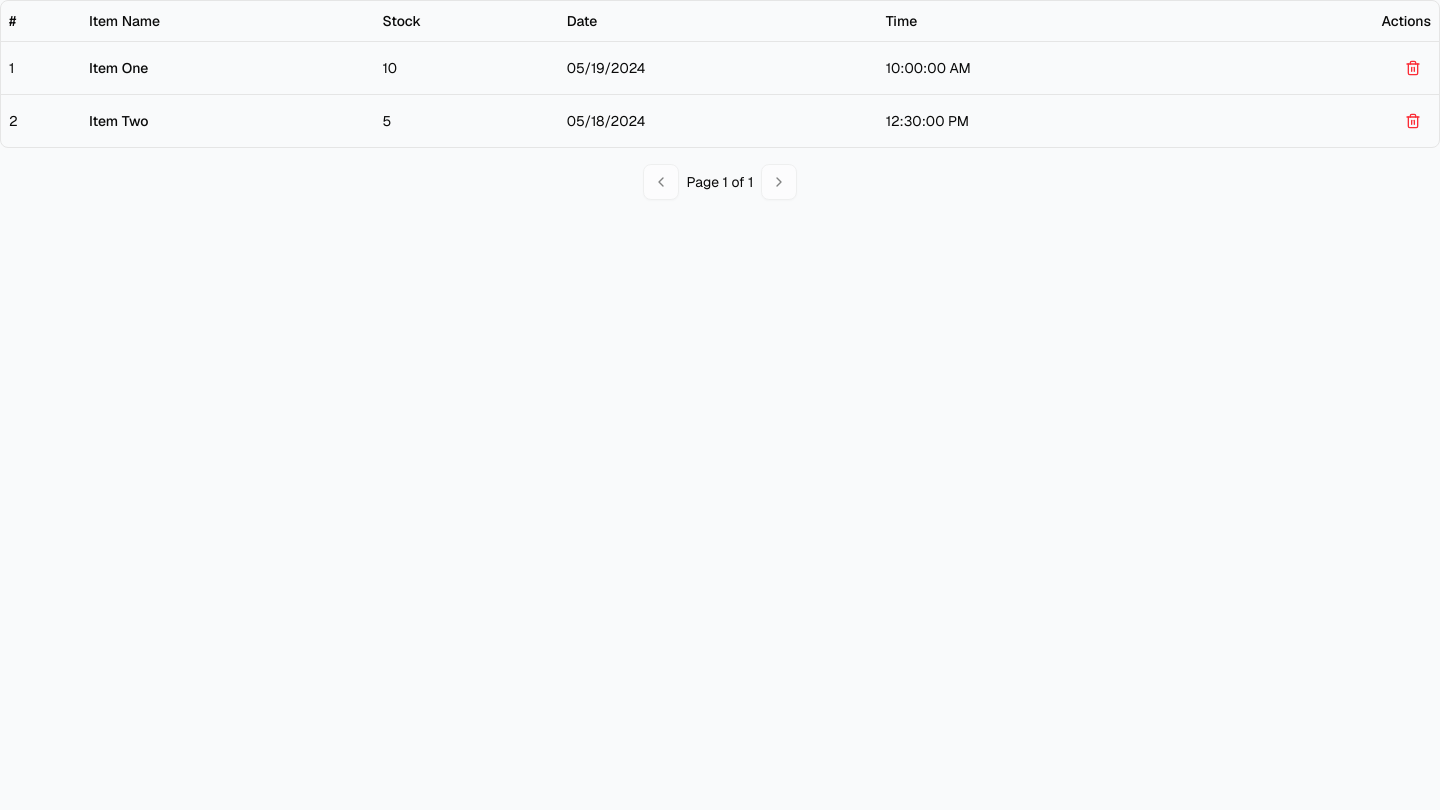
ItemTable Rendering › ItemTable Delete Interaction › shows confirmation dialog when delete button is clicked
// Get all delete buttons and click the first one
Click the button named "delete" in the row of "Item One": coordinates (1413, 68) x1=1395 y1=50 x2=1431 y2=86
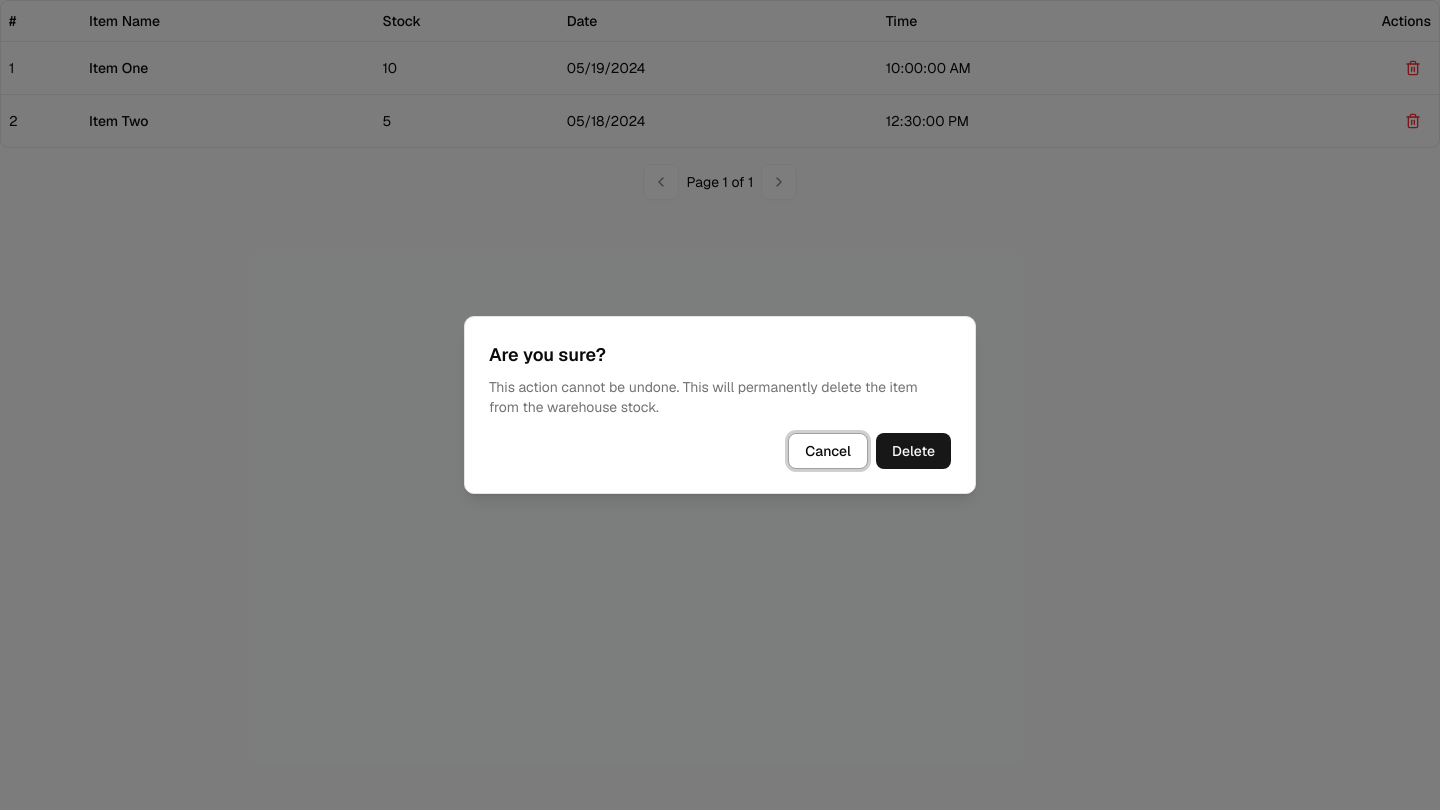
expect the heading "Are you sure?" is shown: met, box x1=489 y1=343 x2=606 y2=366
expect the text "This action cannot be undone" is shown: met, box x1=489 y1=378 x2=918 y2=416
